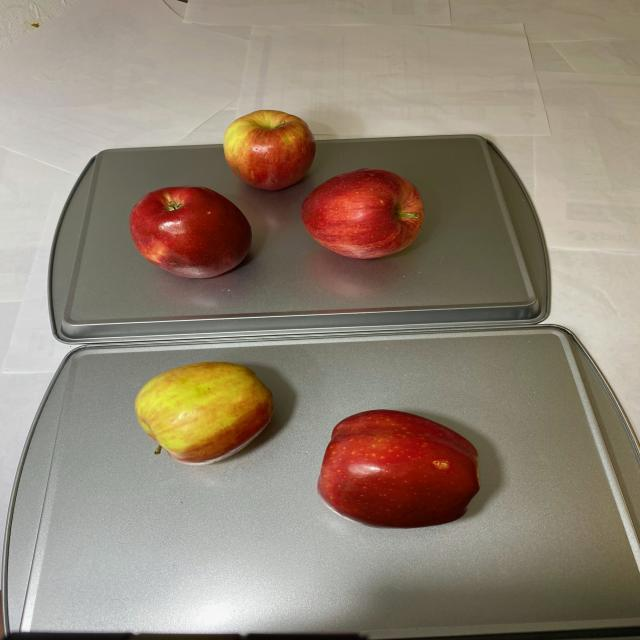Apple: (128, 359, 485, 528), (125, 108, 432, 283)
